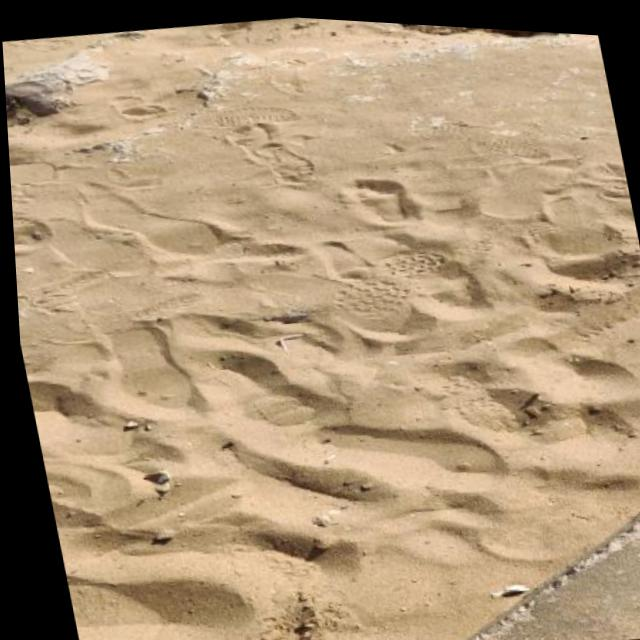plastic: (279, 332, 306, 353)
